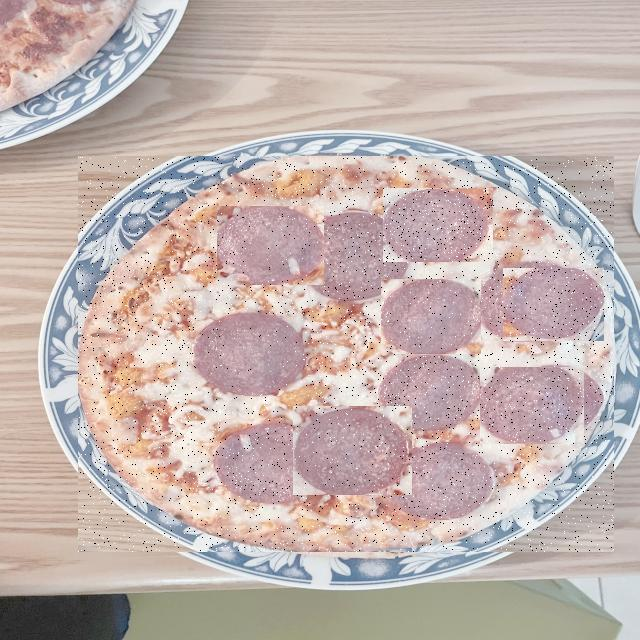Pepperoni: (293, 406, 412, 495), (197, 314, 303, 395), (217, 206, 324, 285), (383, 188, 493, 262), (480, 367, 584, 444), (381, 279, 481, 354), (503, 268, 604, 341)
Pizza: (79, 157, 614, 552)
